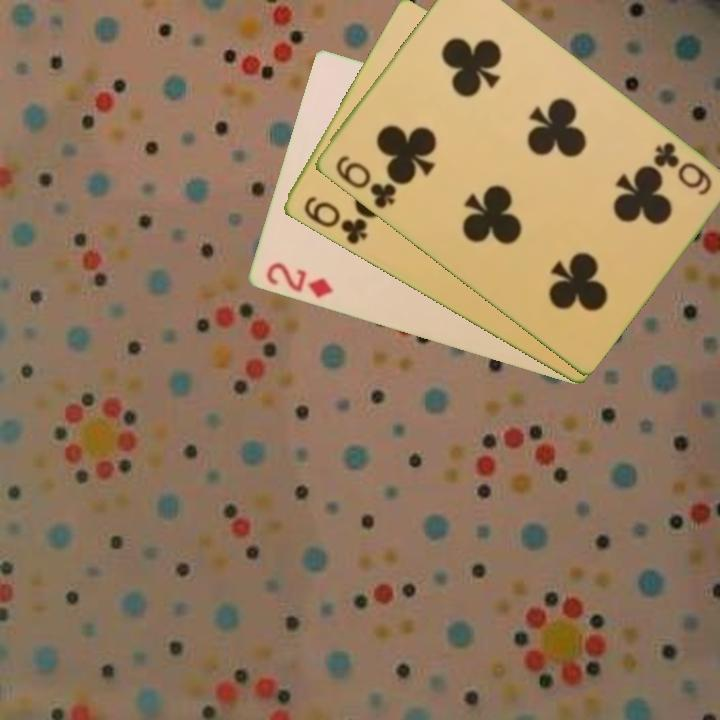2d: (261, 259, 336, 301)
6c: (331, 152, 399, 212), (649, 138, 715, 199), (299, 192, 370, 248)
